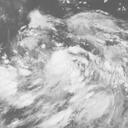cyclone: (31, 34, 87, 93)
